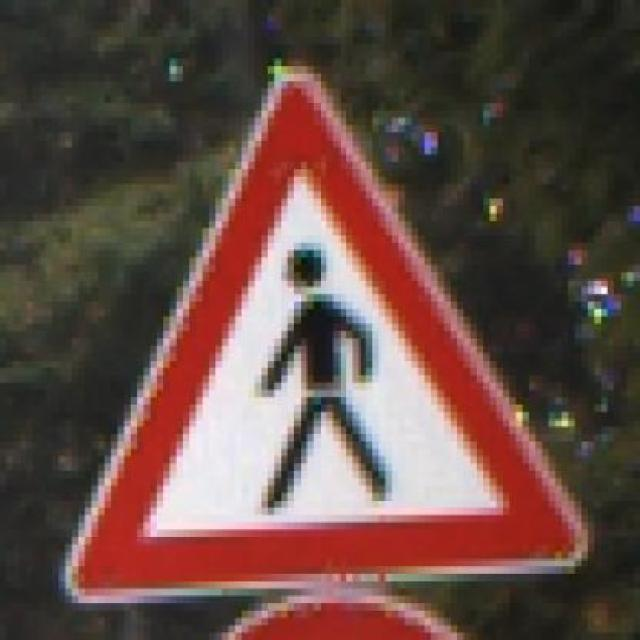Pedestrian Crossing: (52, 52, 600, 603)
